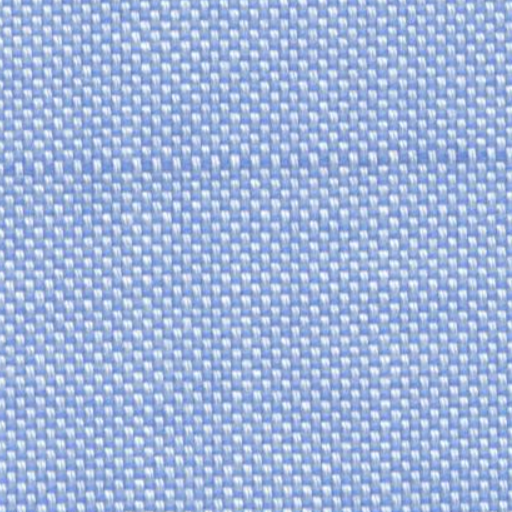TuoSha: (12, 126, 488, 202)
